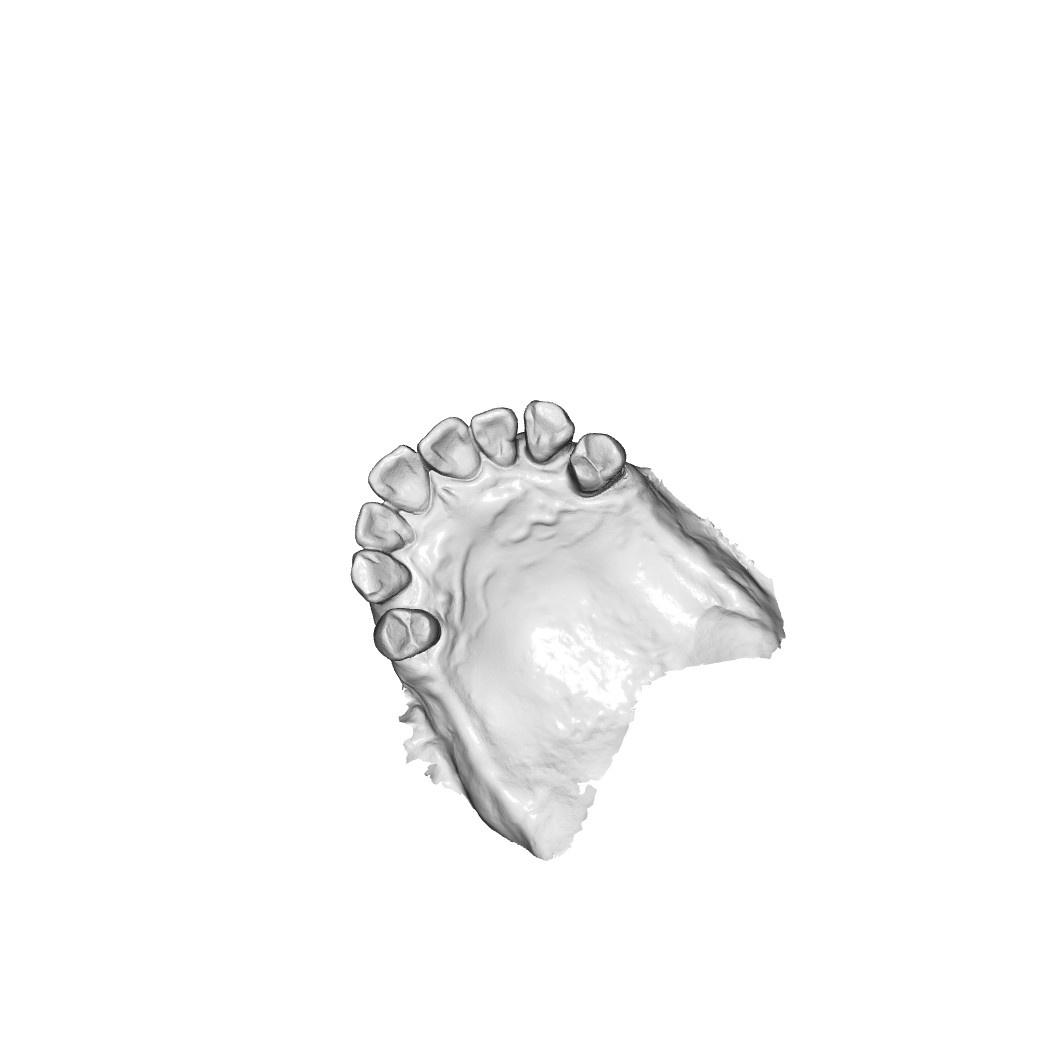canine: (520, 397, 572, 464), (349, 548, 412, 601)
incisor: (419, 413, 482, 479), (366, 445, 429, 509), (355, 501, 410, 555), (470, 407, 519, 463)
premolar: (370, 604, 446, 661), (568, 431, 629, 495)
